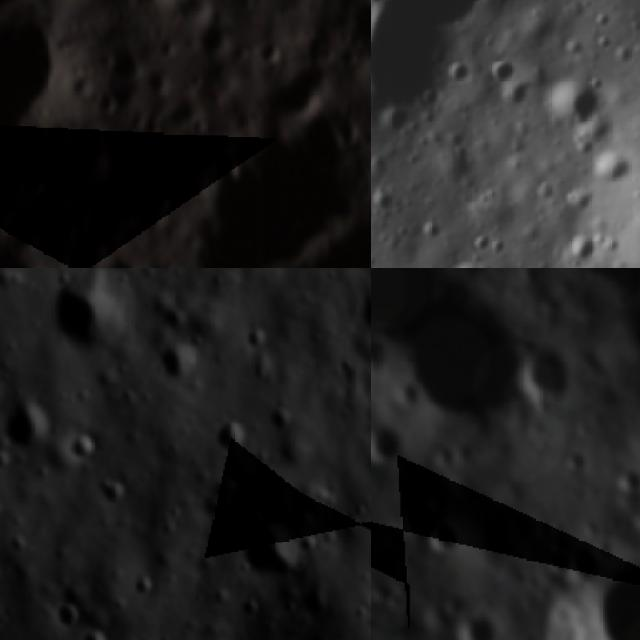crater: (200, 111, 349, 268), (371, 294, 520, 440), (371, 0, 486, 117), (530, 554, 640, 640), (48, 268, 129, 357), (515, 338, 575, 416), (231, 520, 302, 582), (50, 114, 112, 180), (548, 72, 606, 137), (122, 142, 181, 203), (0, 396, 59, 453), (150, 341, 203, 392), (424, 520, 469, 562), (442, 608, 498, 640), (371, 413, 402, 470), (613, 297, 640, 360), (198, 19, 236, 58), (5, 213, 44, 250), (564, 543, 600, 583), (67, 425, 98, 469), (214, 418, 248, 458), (96, 474, 132, 510), (107, 43, 142, 80), (253, 33, 287, 70), (611, 459, 640, 502), (244, 320, 275, 359), (567, 236, 607, 266), (299, 585, 334, 619), (558, 445, 594, 477), (539, 546, 570, 580), (425, 442, 456, 475), (56, 599, 84, 635), (264, 404, 295, 435), (297, 523, 323, 559), (74, 630, 116, 640), (514, 630, 551, 640)
